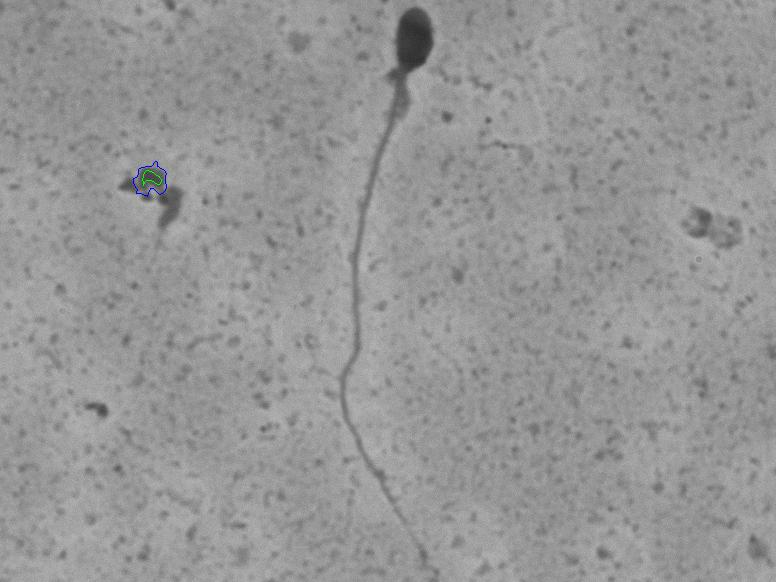Normal: (282, 2, 501, 552)
